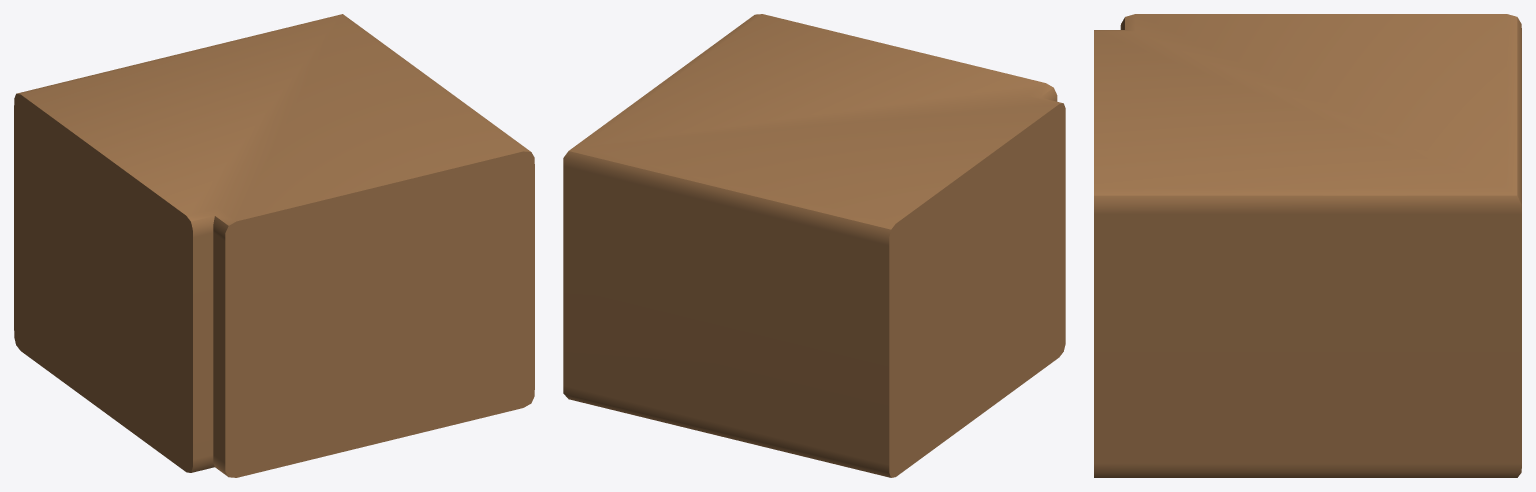
File: cabinet_corner.glb
The picture shows the model from 3 angles, left to right: view 1: azimuth 30°, elevation 25°; view 2: azimuth 150°, elevation 25°; view 3: azimuth 270°, elevation 25°; orthographic projection. The views are drawn at different scales.
Parts seen in each view (by area): view 1: Environment_Cabinet_Corner; view 2: Environment_Cabinet_Corner; view 3: Environment_Cabinet_Corner.
Boxes of the visible parts, x1,y1,x2,y2 form: Environment_Cabinet_Corner: (14, 14, 534, 477); Environment_Cabinet_Corner: (563, 14, 1065, 477); Environment_Cabinet_Corner: (1094, 14, 1521, 477).
Size of the model in its own units: 1.88 by 1.4 by 1.88.
1 material, 1 textured.
